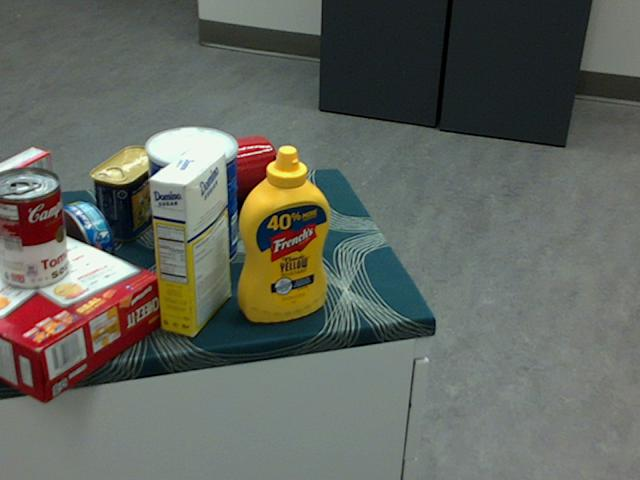cracker_box: (0, 212, 162, 402)
gelatin_box: (0, 147, 54, 229)
large_marker: (273, 152, 288, 245)
master_chef_can: (143, 125, 236, 273)
mug: (192, 134, 278, 209)
mustard_bottle: (237, 144, 330, 321)
potted_meat_can: (88, 144, 163, 241)
sugar_box: (147, 146, 231, 336)
tomato_soup_can: (0, 167, 68, 289)
tuna_fish_can: (44, 201, 113, 280)
